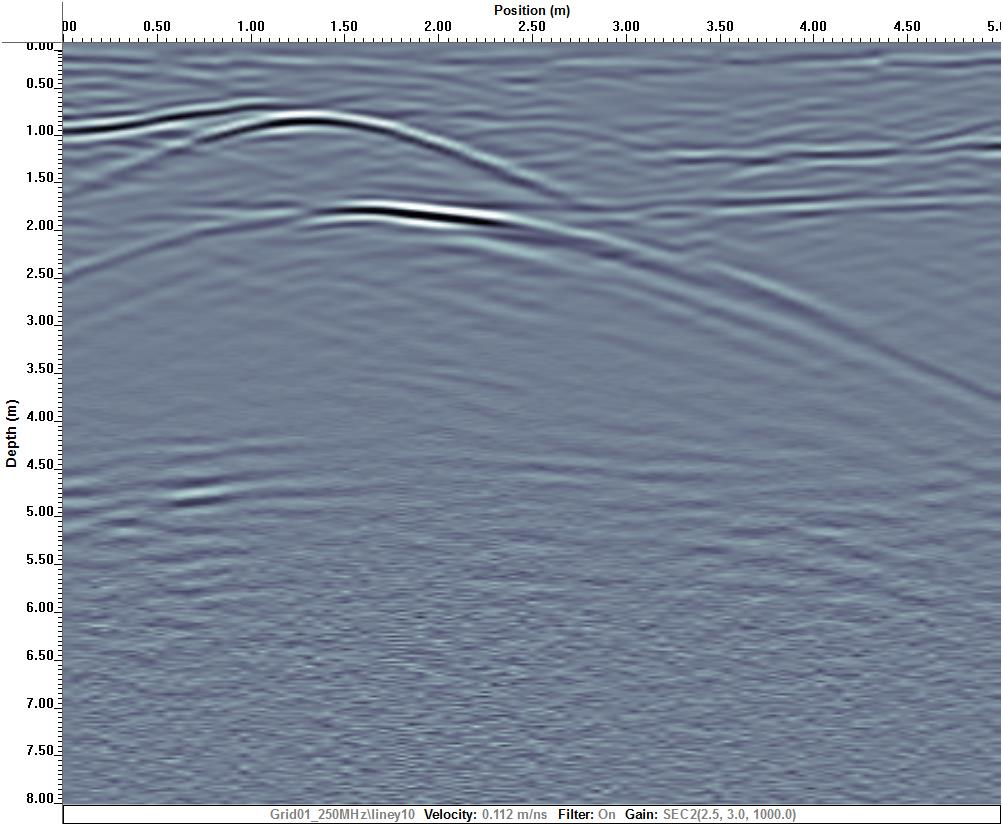hyperbola: (80, 199, 946, 370), (119, 110, 543, 192)
